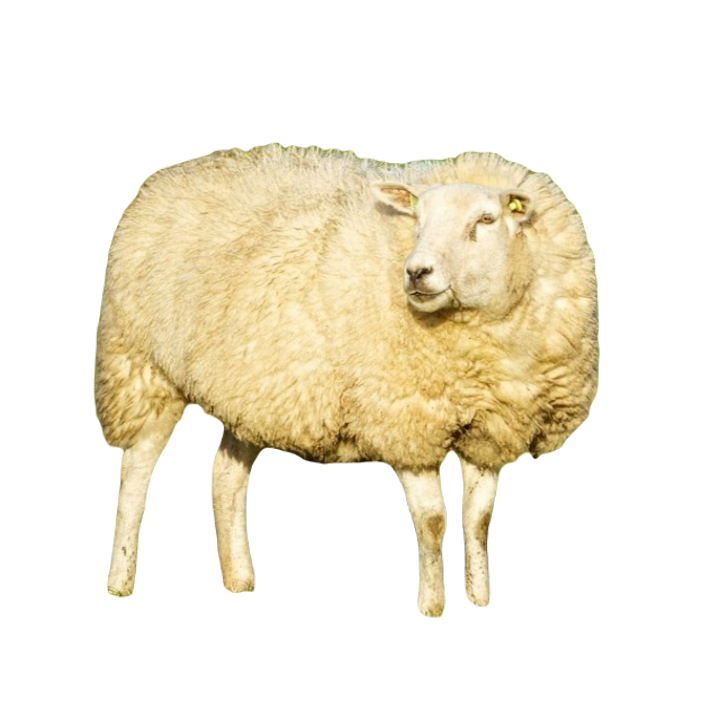Sheep: (88, 137, 610, 621)
